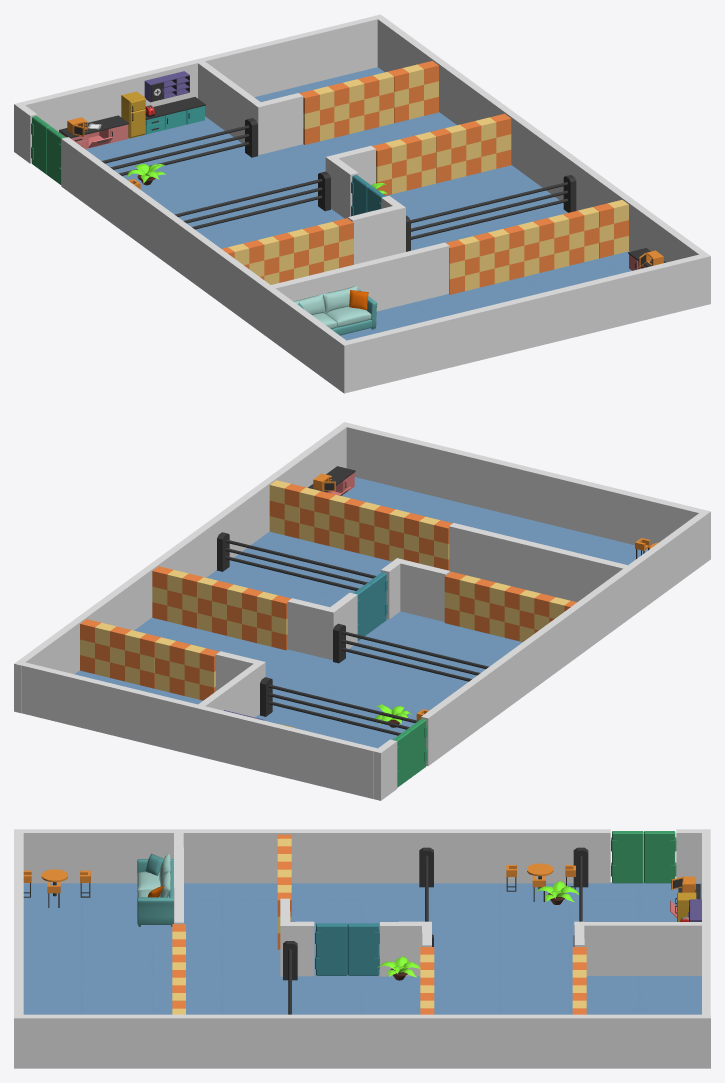
File: maps_20.fbx
3 renders of one model, top to bottom at view 1: azimuth 30°, elevation 25°; view 2: azimuth 150°, elevation 25°; view 3: azimuth 270°, elevation 25°, orthographic. The views are drawn at different scales.
Parts seen in each view (by area): view 1: frames_13_geo, frames_06_geo, frames_03_geo, frames_11_geo, frames_04_geo, frames_02_geo2, frames_03_geo2, sofa_geo, frames_02_geo7, frames_02_geo5, polySurface111, polySurface97 (+13 smaller); view 2: frames_13_geo, frames_11_geo, frames_06_geo, frames_03_geo, frames_04_geo, frames_02_geo2, frames_02_geo1, frames_02_geo5, frames_03_geo2, frames_03_geo1, pCylinder1 (×2), frames_02_geo7 (+7 smaller); view 3: frames_13_geo, frames_04_geo, frames_03_geo, frames_03_geo2, sofa_geo, frames_02_geo3, frames_06_geo, polySurface170, polySurface2, polySurface171, polySurface6, frames_11_geo (+7 smaller).
Part boxes in pixels (x1,y1,x2,y2): frames_13_geo: (86, 67, 631, 340); frames_06_geo: (347, 254, 703, 391); frames_03_geo: (61, 137, 351, 393); frames_11_geo: (21, 16, 377, 131); frames_04_geo: (374, 14, 710, 305); frames_02_geo2: (271, 242, 449, 311); frames_03_geo2: (198, 61, 260, 143); sofa_geo: (293, 285, 377, 335); frames_02_geo7: (253, 93, 303, 155); frames_02_geo5: (348, 206, 397, 264); polySurface111: (145, 97, 205, 134); polySurface97: (59, 115, 128, 149); frames_13_geo: (75, 477, 649, 748); frames_11_geo: (21, 662, 377, 799); frames_06_geo: (346, 424, 703, 548); frames_03_geo: (421, 510, 710, 765); frames_04_geo: (14, 422, 350, 713); frames_02_geo2: (449, 523, 627, 602); frames_02_geo1: (287, 598, 338, 660); frames_02_geo5: (400, 560, 450, 621); frames_03_geo2: (198, 664, 260, 717); frames_03_geo1: (374, 739, 397, 800); pCylinder1 (×2): (225, 539, 418, 722); frames_02_geo7: (216, 651, 265, 690); frames_13_geo: (23, 882, 701, 1014); frames_04_geo: (14, 1014, 710, 1068); frames_03_geo: (14, 829, 610, 883); frames_03_geo2: (584, 922, 702, 975); sofa_geo: (137, 853, 173, 926); frames_02_geo3: (380, 921, 422, 976); frames_06_geo: (14, 833, 23, 1014); polySurface170: (347, 923, 379, 975); polySurface2: (611, 831, 643, 883); polySurface171: (315, 923, 347, 975); polySurface6: (644, 831, 676, 883); frames_11_geo: (702, 833, 710, 1014).
Size of the model in its own units: 71.19 by 9.21 by 111.
12 materials, 12 textured.
